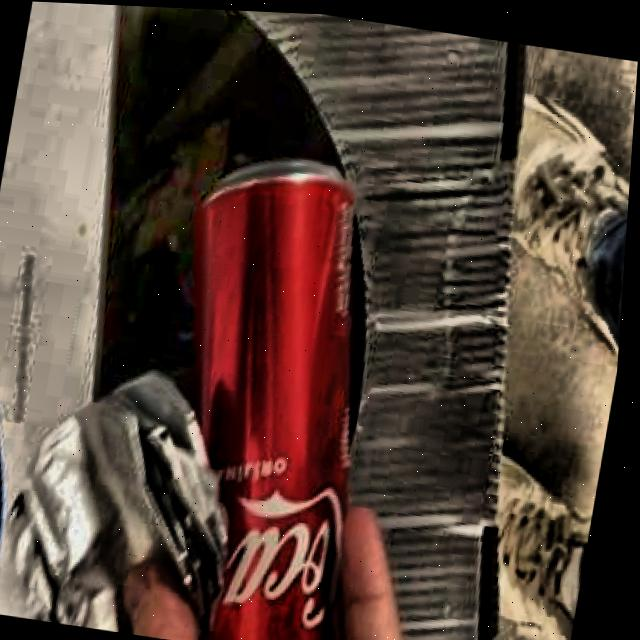metal: (204, 155, 357, 640)
